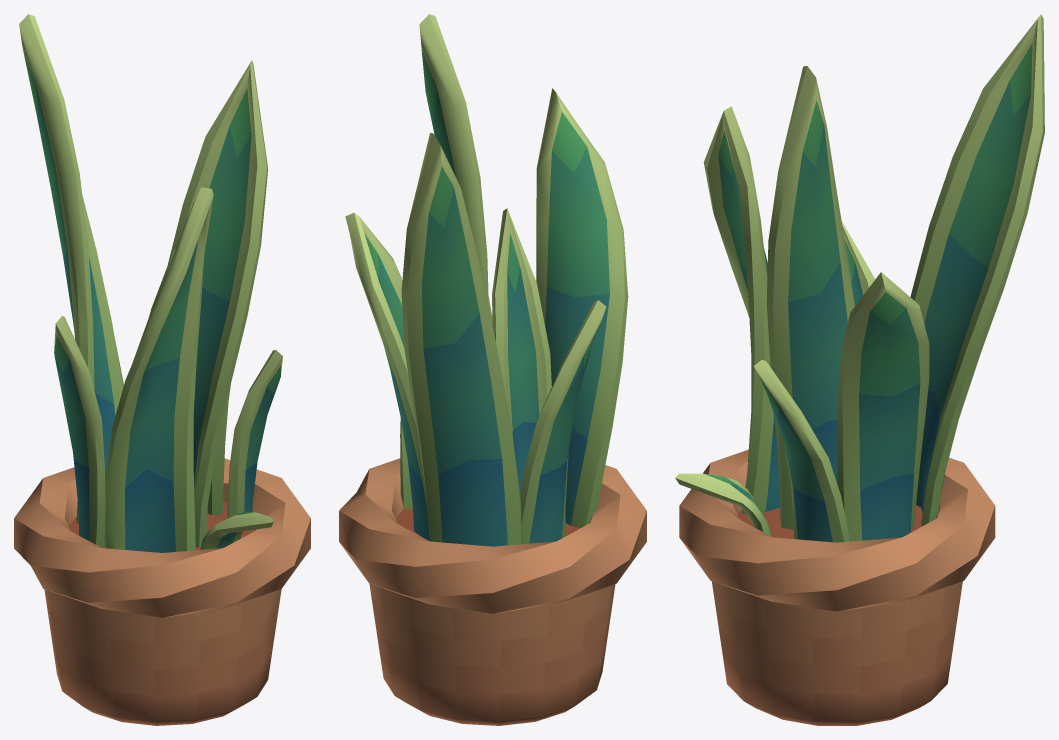
File: sansevieria.glb
3 renders of one model, left to right at view 1: azimuth 30°, elevation 25°; view 2: azimuth 150°, elevation 25°; view 3: azimuth 270°, elevation 25°, orthographic. The views are drawn at different scales.
Visible parts, largest first — view 1: sansevieria_plant_large_potted; view 2: sansevieria_plant_large_potted; view 3: sansevieria_plant_large_potted.
Part boxes in pixels (bbox=[...]): sansevieria_plant_large_potted: bbox=[14, 14, 310, 725]; sansevieria_plant_large_potted: bbox=[339, 14, 646, 725]; sansevieria_plant_large_potted: bbox=[675, 14, 1044, 725].
Size of the model in its own units: 1.5 by 3.36 by 1.71.
1 material, 1 textured.
